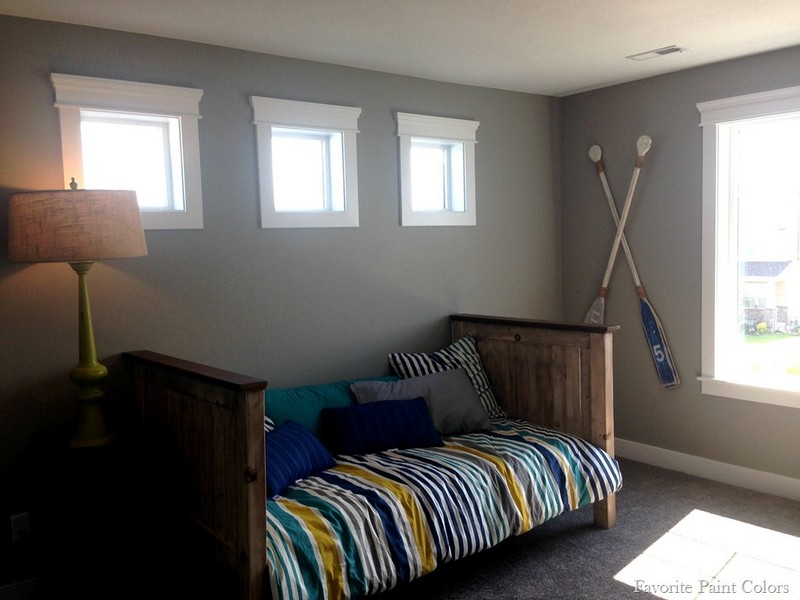bed: (119, 309, 628, 573)
lamp: (10, 176, 146, 381)
